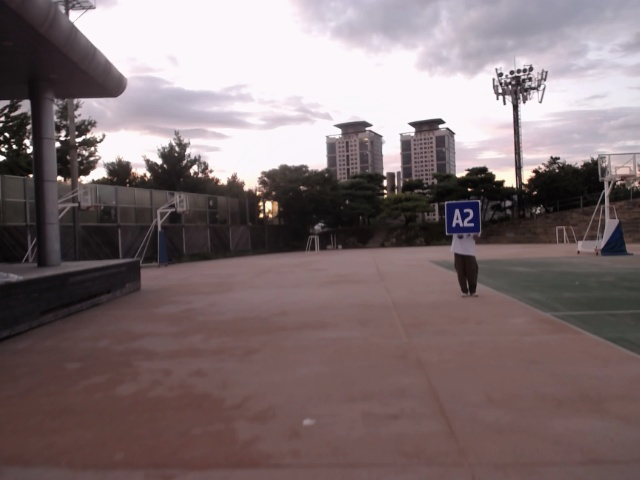delivery_a2: (445, 200, 480, 236)
